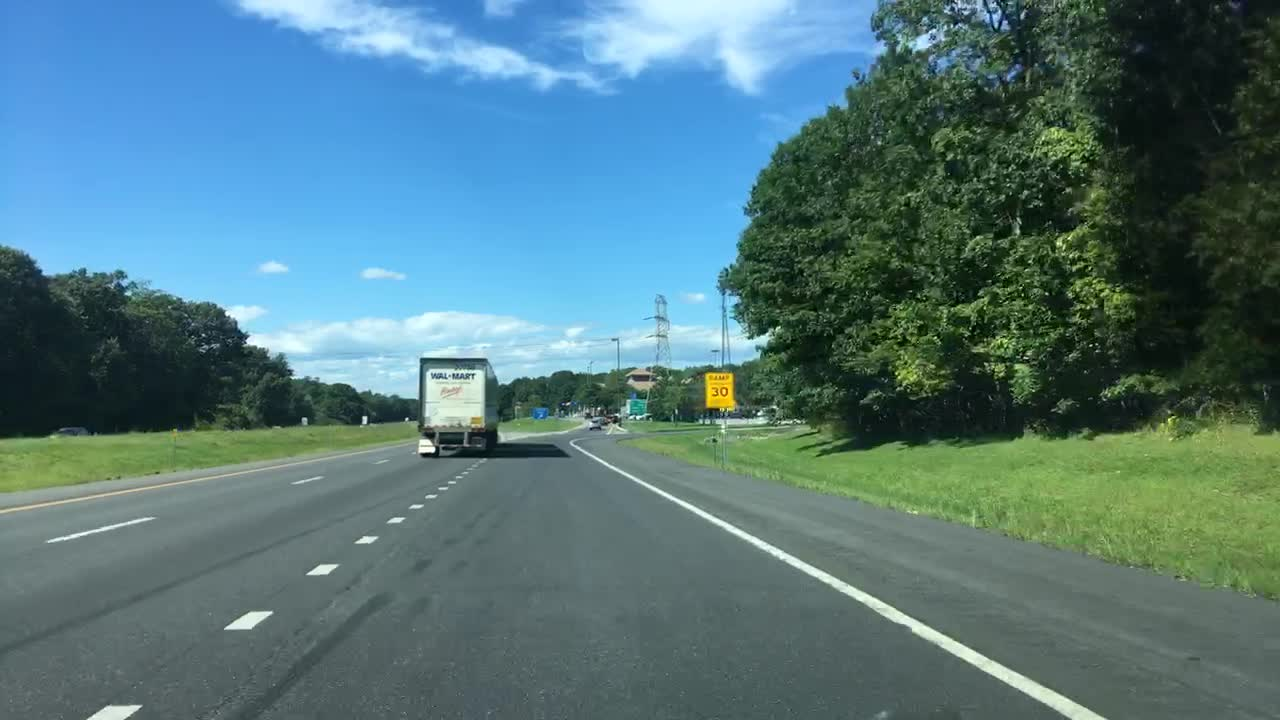car: (48, 425, 86, 436), (592, 413, 607, 426), (587, 418, 600, 433), (622, 411, 636, 423), (728, 410, 742, 421), (607, 411, 617, 426), (636, 413, 651, 421)
traffic sign: (703, 372, 734, 406), (627, 399, 647, 413), (532, 408, 549, 418)
truck: (415, 356, 499, 458)
